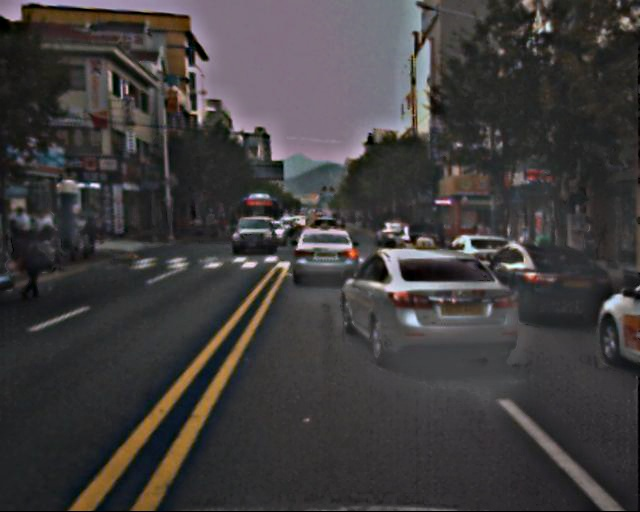person: (3, 208, 63, 294), (576, 221, 602, 285), (76, 211, 107, 248)
